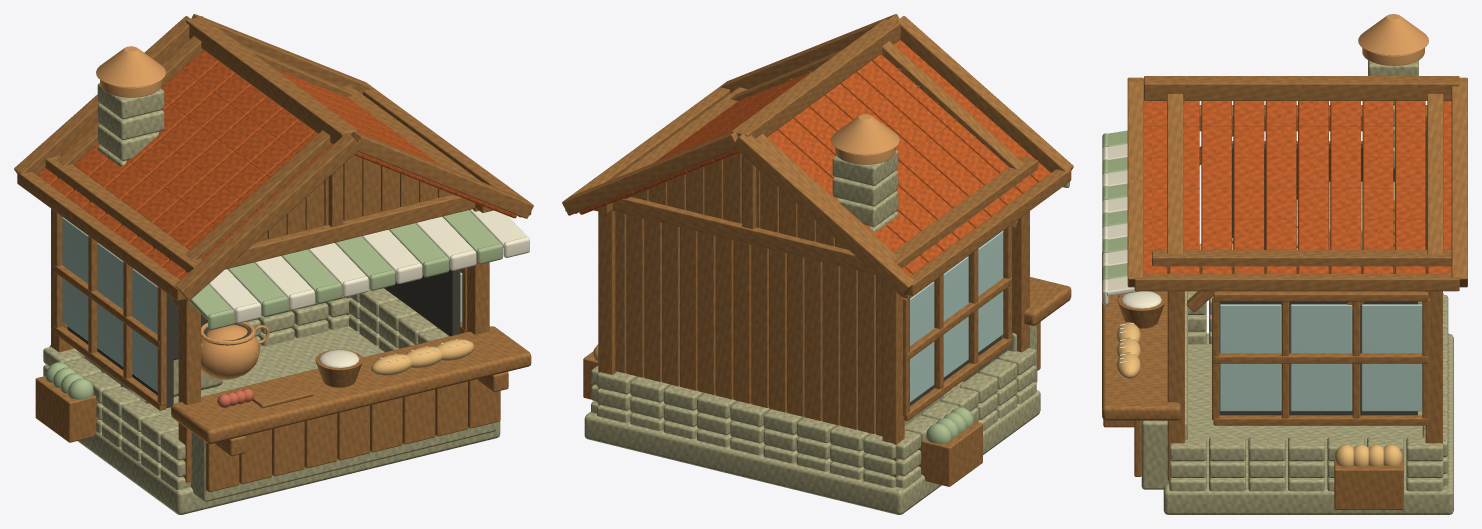
The model's file is food_workshop.glb.
3 renders of one model, left to right at view 1: azimuth 30°, elevation 25°; view 2: azimuth 150°, elevation 25°; view 3: azimuth 270°, elevation 25°, orthographic. The views are drawn at different scales.
Parts seen in each view (by area): view 1: DetailsMesh, RoofMesh, FrameMesh, WallsMesh, FoundationMesh; view 2: WallsMesh, RoofMesh, FrameMesh, DetailsMesh, FoundationMesh; view 3: RoofMesh, DetailsMesh, FrameMesh, WallsMesh, FoundationMesh.
Part boxes in pixels (bbox=[...]): DetailsMesh: bbox=[35, 46, 531, 492]; RoofMesh: bbox=[14, 14, 533, 301]; FrameMesh: bbox=[45, 16, 493, 482]; WallsMesh: bbox=[43, 49, 496, 501]; FoundationMesh: bbox=[77, 326, 500, 514]; WallsMesh: bbox=[591, 52, 1037, 488]; RoofMesh: bbox=[562, 14, 1073, 296]; FrameMesh: bbox=[594, 19, 1038, 477]; DetailsMesh: bbox=[583, 114, 1071, 486]; FoundationMesh: bbox=[584, 381, 1040, 514]; RoofMesh: bbox=[1127, 60, 1467, 291]; DetailsMesh: bbox=[1102, 14, 1428, 509]; FrameMesh: bbox=[1144, 76, 1459, 480]; WallsMesh: bbox=[1141, 100, 1448, 491]; FoundationMesh: bbox=[1163, 333, 1453, 514].
Bounding box in the file's own units: 3.75 × 3.55 × 3.15.
Materials: 10 (3 with a texture image).
